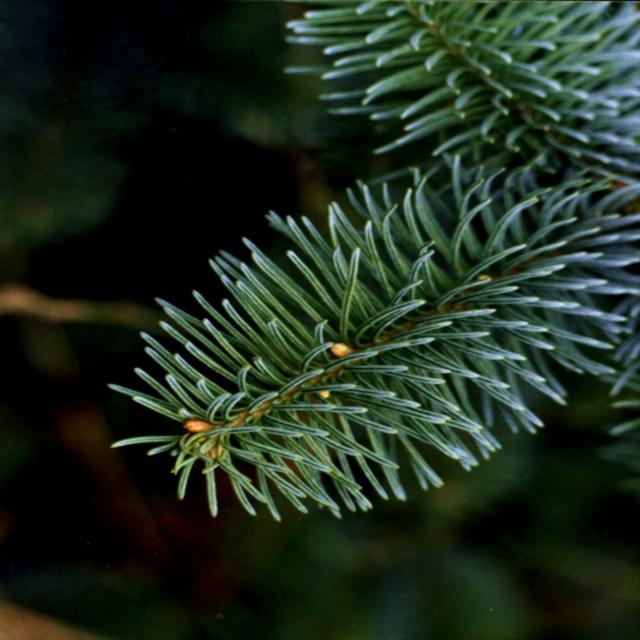Abies: (79, 12, 640, 524)
